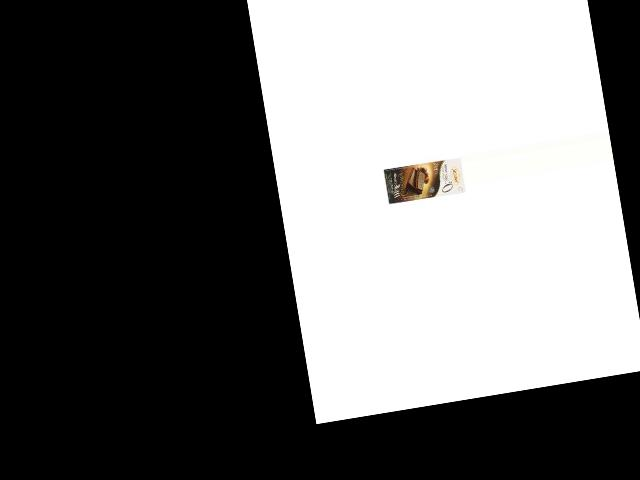chocolate: (382, 155, 466, 207)
